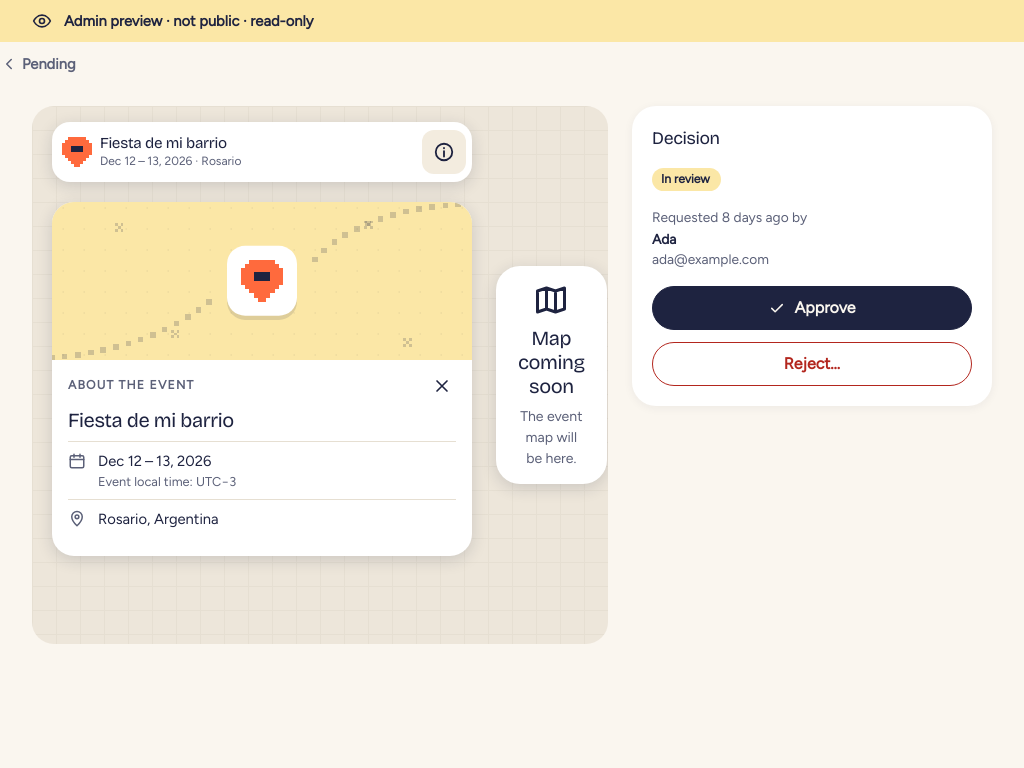
Test case: Admin review › refuses an approval of a changed event and loads the new version
The image size is (1024, 768).
Click the button "Approve".
click(812, 308)  # box top-left (652, 286), bottom-right (972, 330)
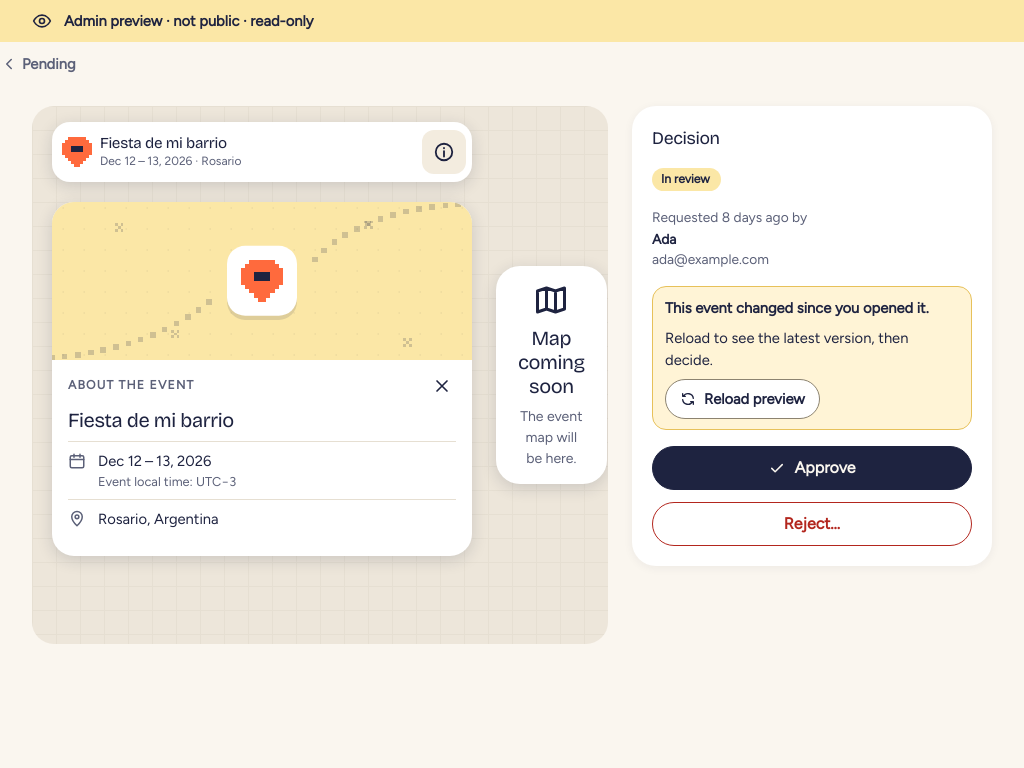
Check: the message shows "changed since you opened it", box top-left (665, 299), bottom-right (929, 317)
Click the button "Reload preview".
click(742, 399)  # box top-left (665, 379), bottom-right (820, 419)
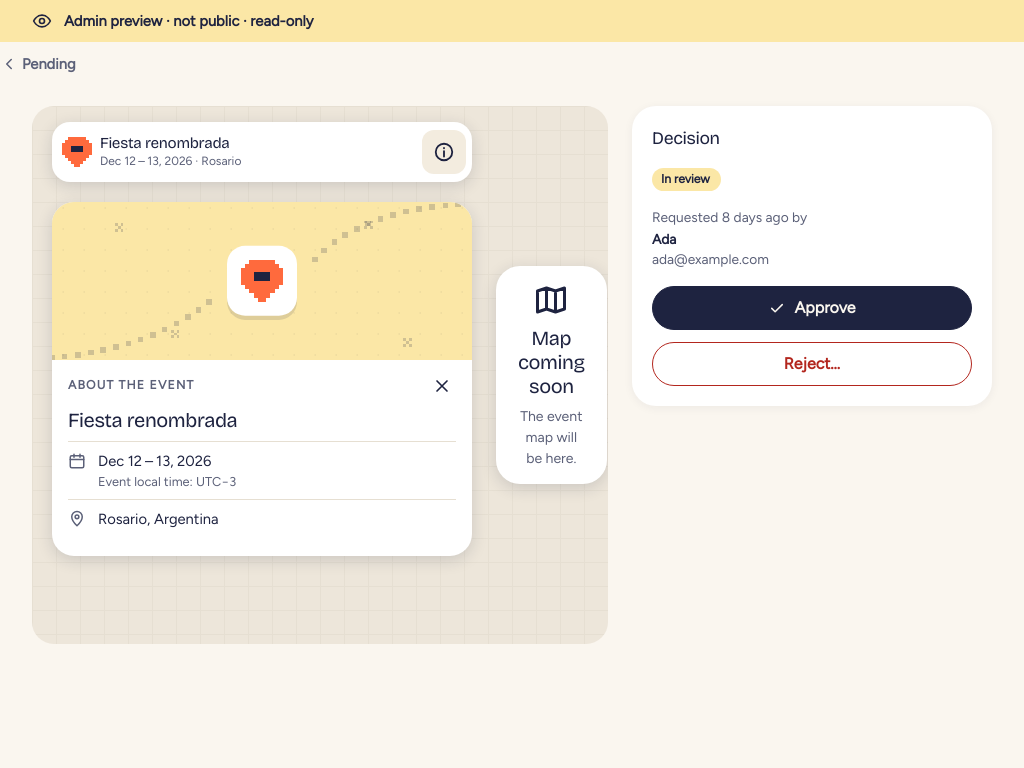
Check: the 1st heading "Fiesta renombrada" is shown, box top-left (100, 134), bottom-right (230, 152)
Check: the message is gone
